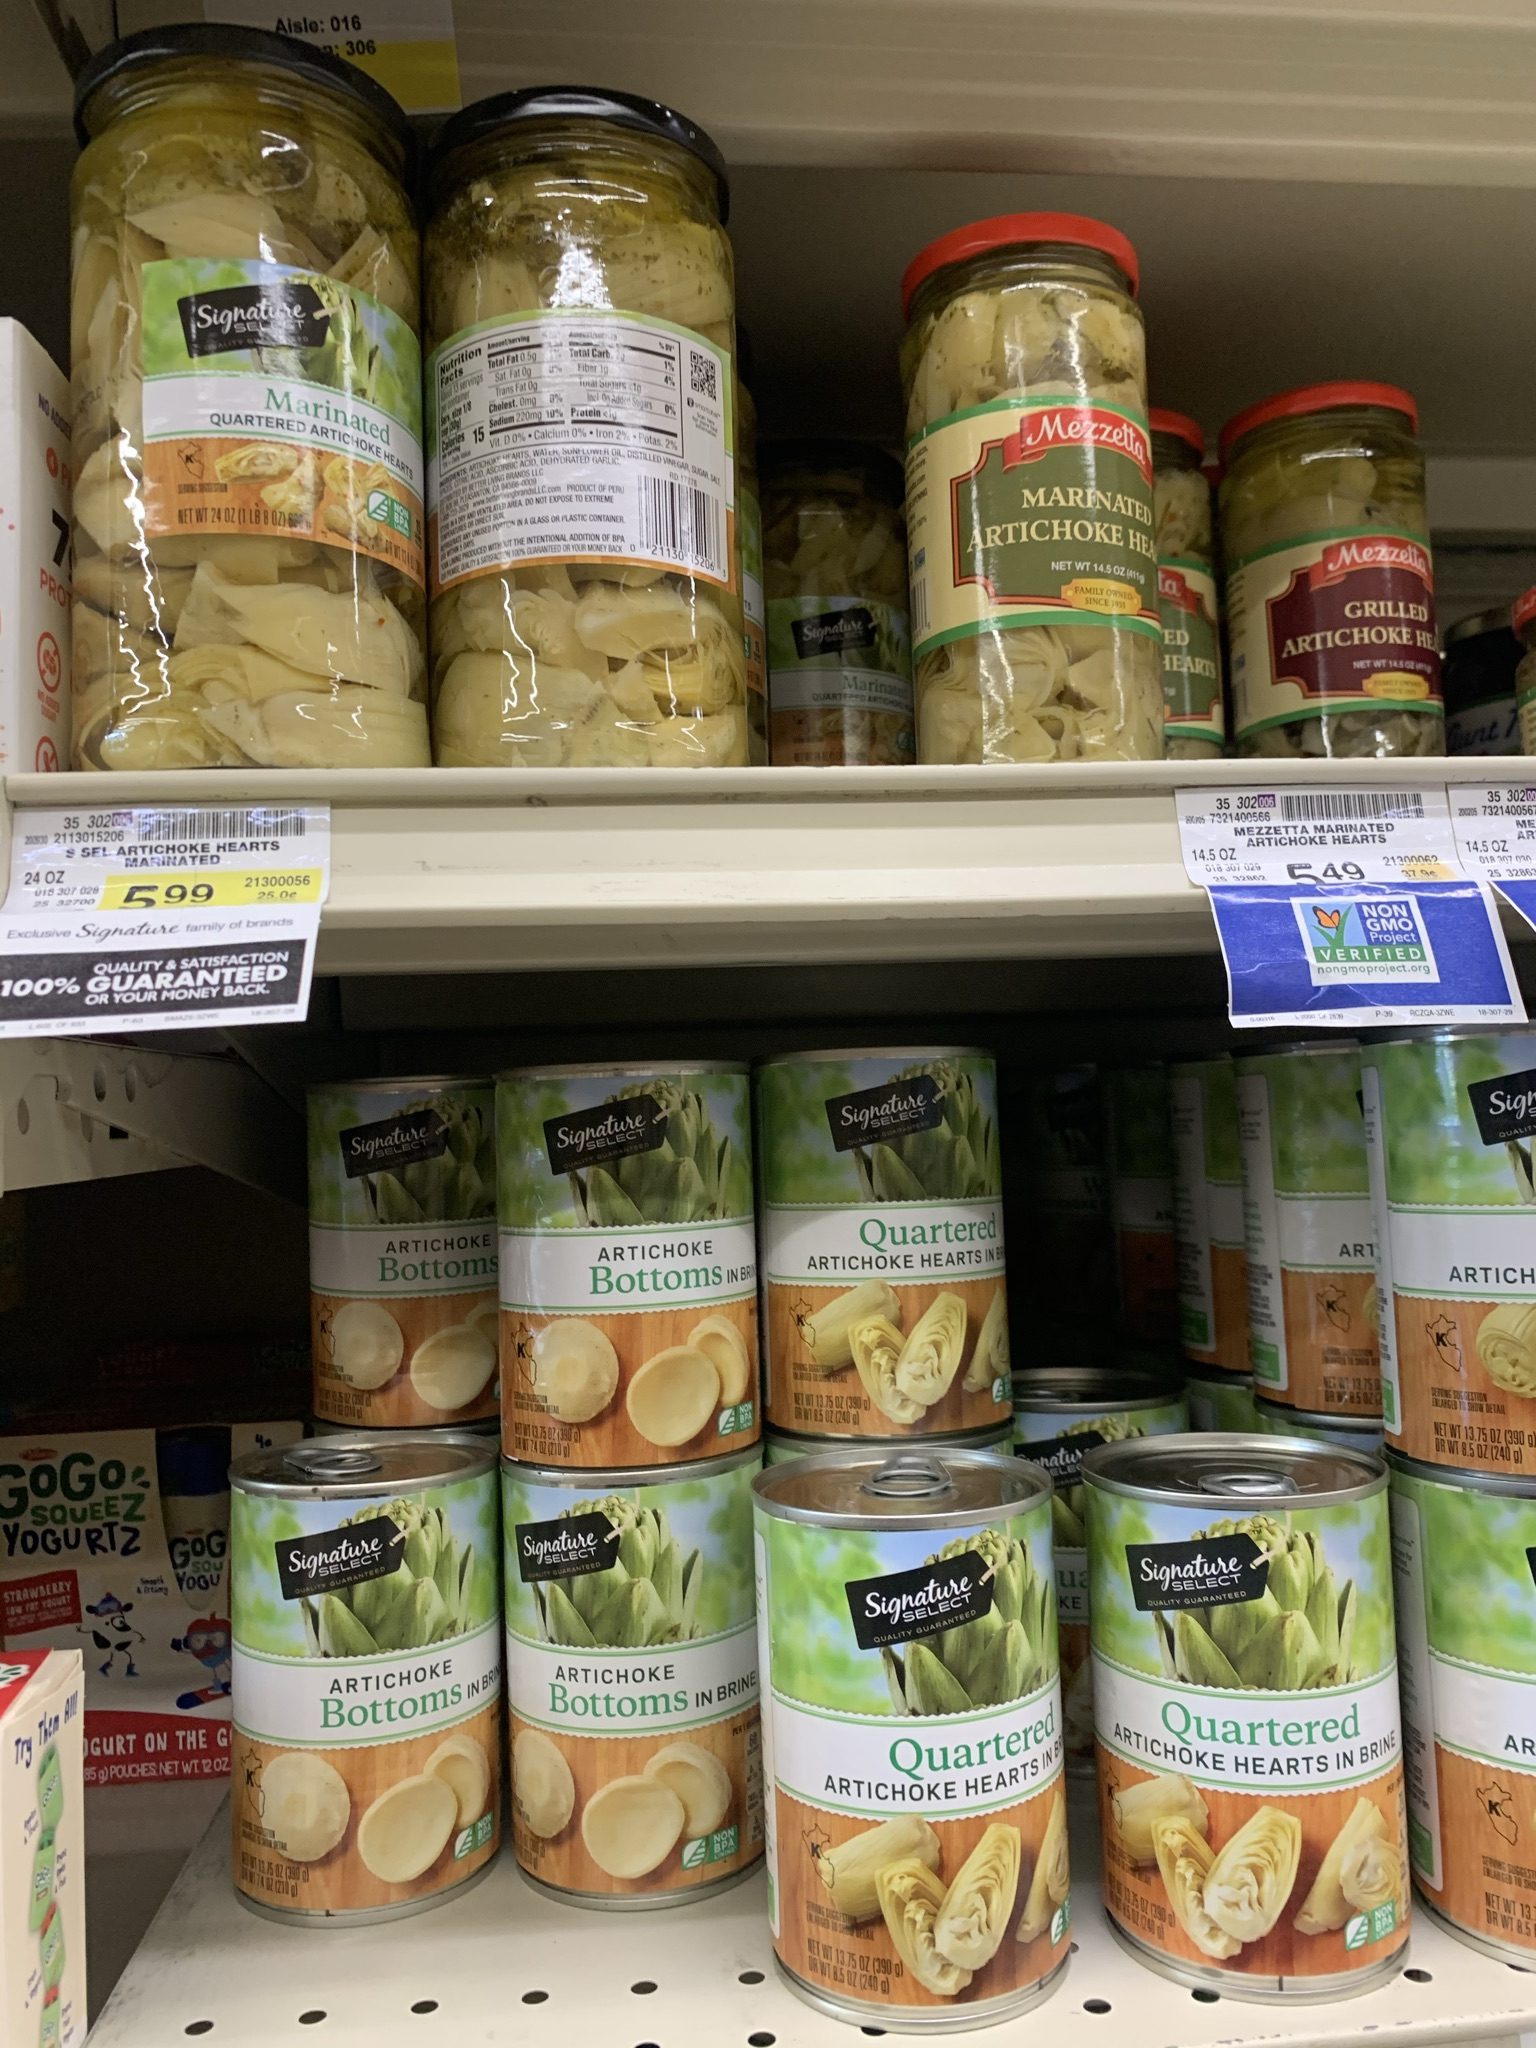can: (791, 1501, 1065, 1993), (1129, 1479, 1389, 1974), (216, 1458, 481, 1895), (497, 1055, 752, 1464), (500, 1471, 750, 1880), (763, 1048, 1013, 1442), (1388, 1056, 1536, 1447), (315, 1106, 478, 1417)
